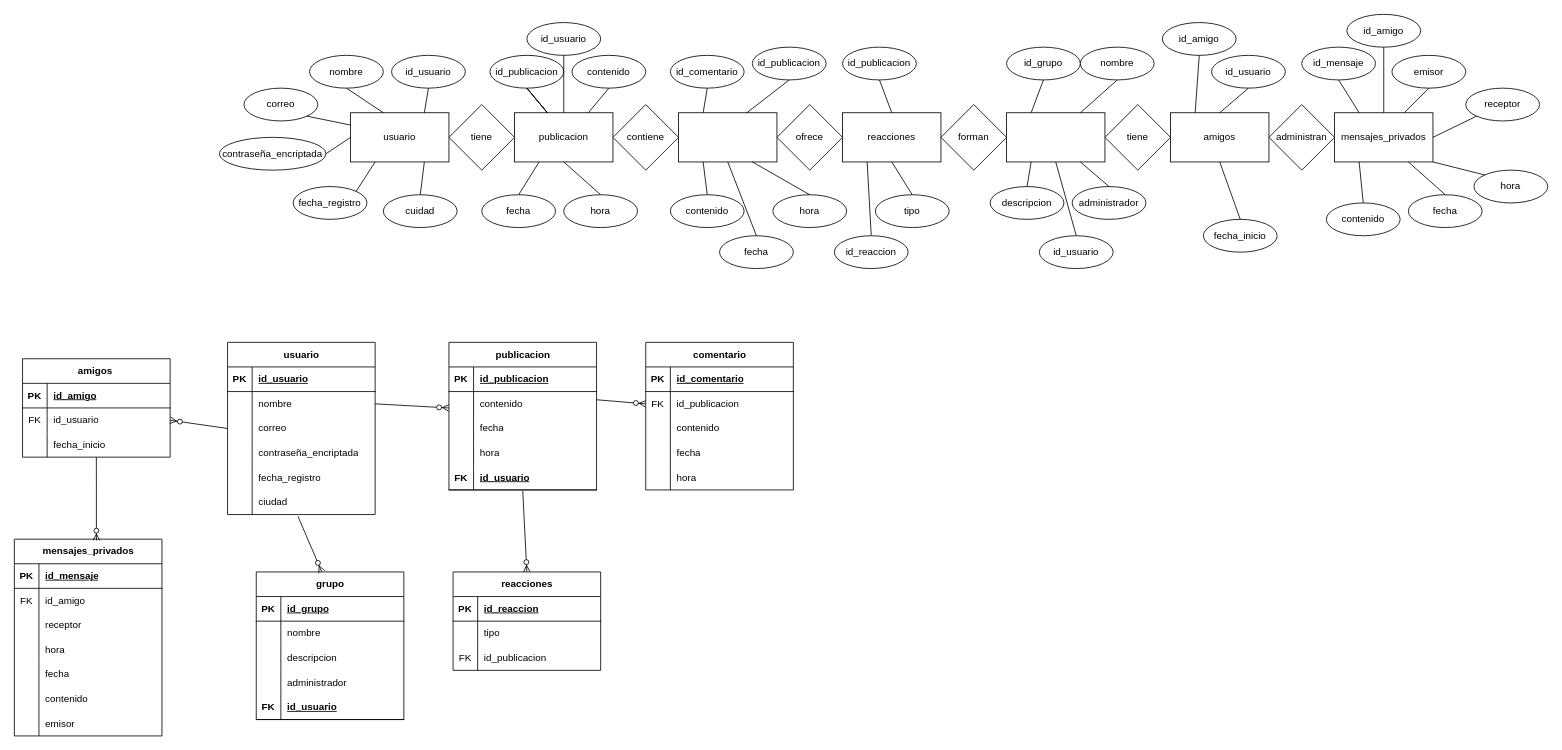
Image size: 1562x750. Some labels were removed from this diagram. The box of each missing label's shape, as (x1, y1, x2, y2) in pixels:
comentarios: (678, 112, 777, 162)
grupos: (1006, 112, 1105, 162)
